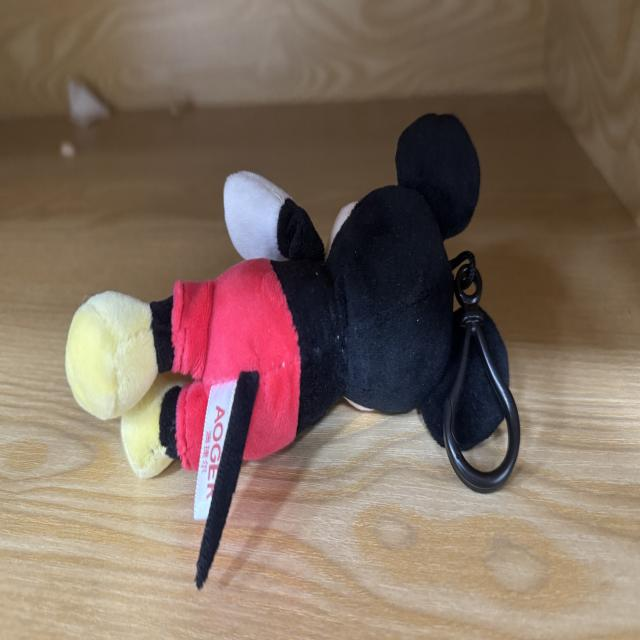mickey: (66, 115, 479, 587)
